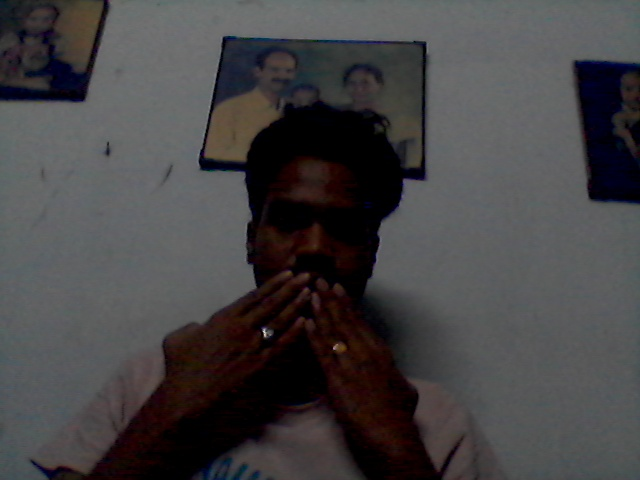Hi: (143, 262, 445, 440)
